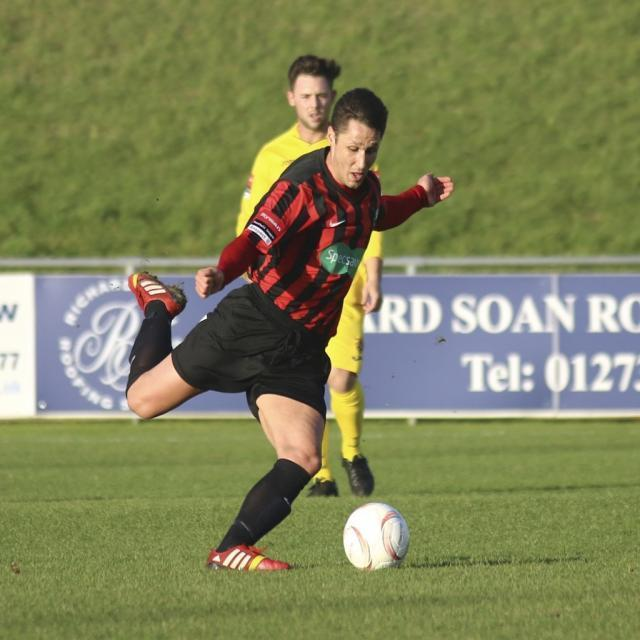ball: (340, 500, 411, 567)
